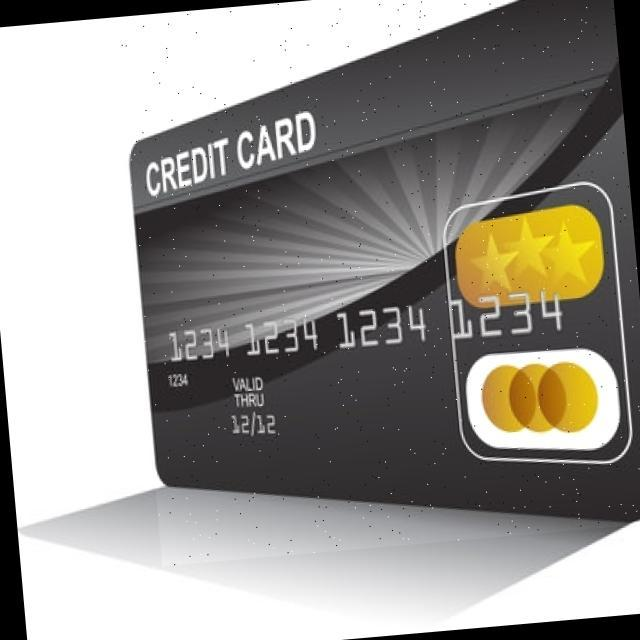payment_card: (127, 0, 638, 522)
